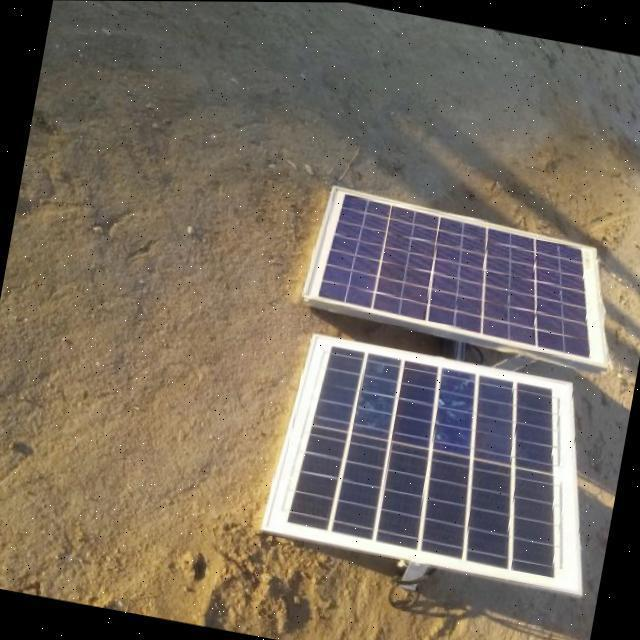Normal Solar Panel: (261, 331, 612, 593), (302, 185, 630, 368)
